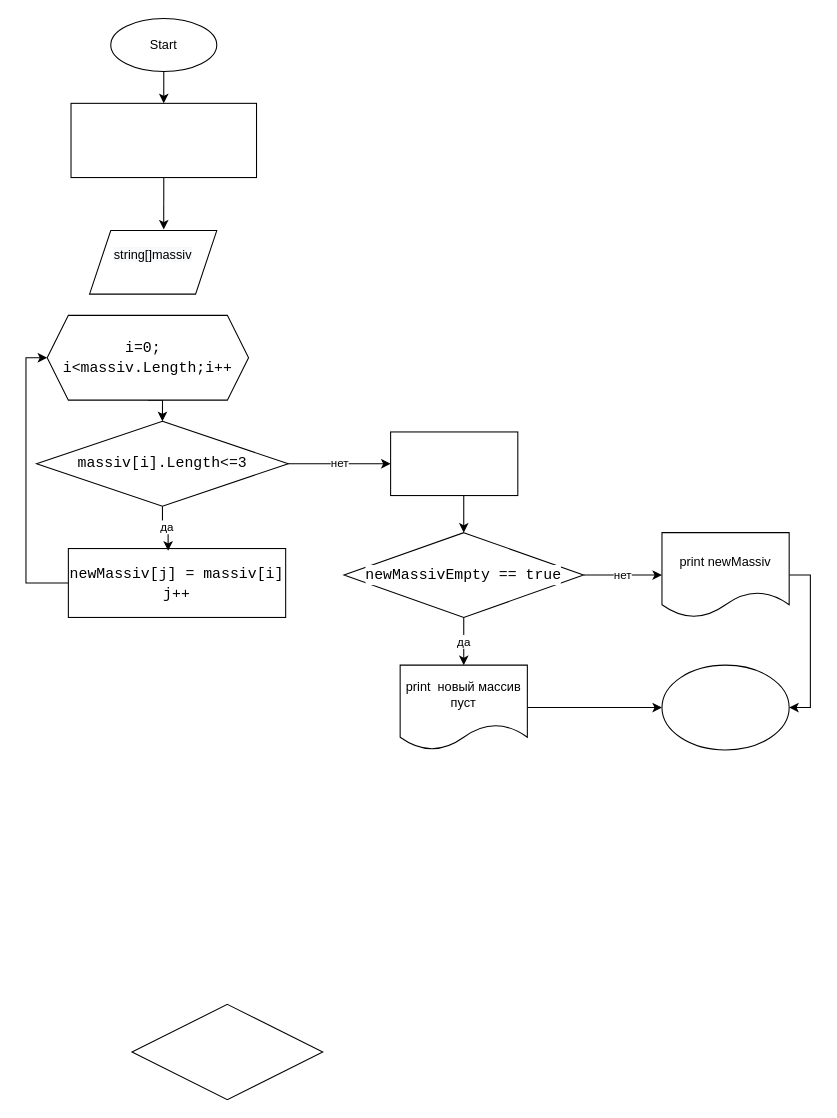
Some shapes in this 837 by 1118 pixel diagram are drawn without their labels. The box of each missing label's shape, as (x1, y1, x2, y2) in pixels:
bool newMassivEmpty: (390, 431, 518, 496)
End: (661, 664, 789, 750)
index<number.length: (131, 1003, 323, 1100)
M string[]massiv string[]newMassiv j = 0: (70, 102, 257, 178)
